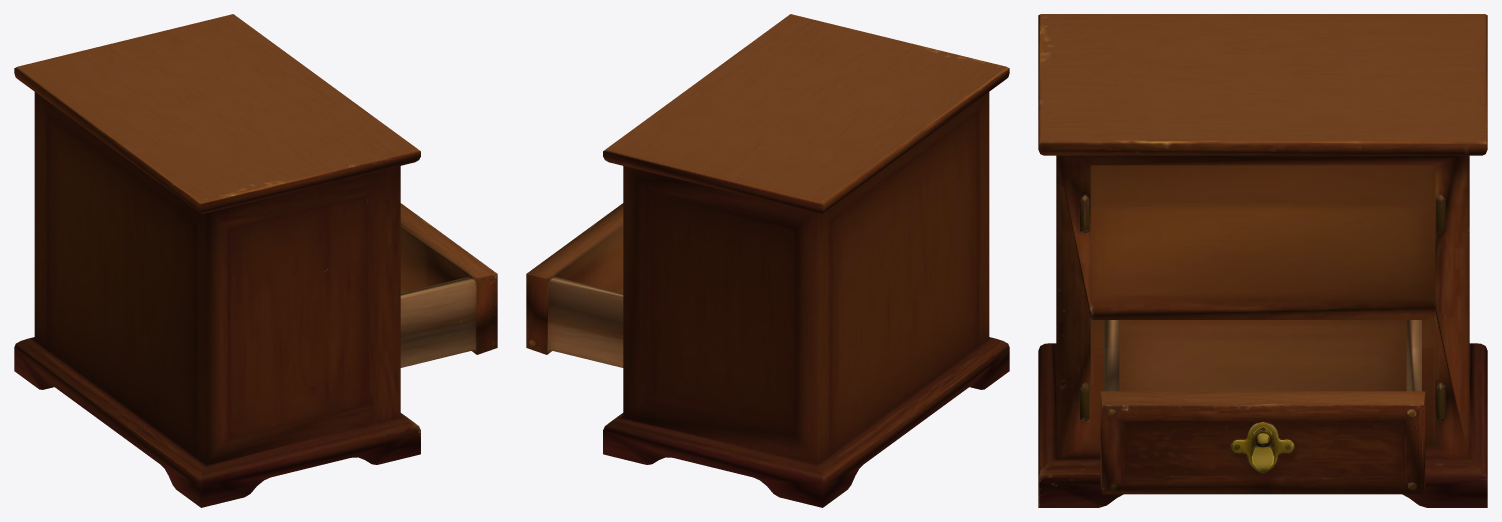
Rendered from Furn_Cabinet_Locked.glb.
3 renders of one model, left to right at view 1: azimuth 30°, elevation 25°; view 2: azimuth 150°, elevation 25°; view 3: azimuth 270°, elevation 25°, orthographic. The views are drawn at different scales.
Parts seen in each view (by area): view 1: tripo_node_2b76a924-87eb-4a6f-9472-808ad4b55956; view 2: tripo_node_2b76a924-87eb-4a6f-9472-808ad4b55956; view 3: tripo_node_2b76a924-87eb-4a6f-9472-808ad4b55956.
Boxes of the visible parts, box(x1,y1,x2,y2) form: tripo_node_2b76a924-87eb-4a6f-9472-808ad4b55956: box(14, 14, 497, 507); tripo_node_2b76a924-87eb-4a6f-9472-808ad4b55956: box(526, 14, 1009, 507); tripo_node_2b76a924-87eb-4a6f-9472-808ad4b55956: box(1038, 14, 1487, 507).
Bounding box in the file's own units: 0.7398 × 0.65 × 0.7224.
Materials: 1 (1 with a texture image).
